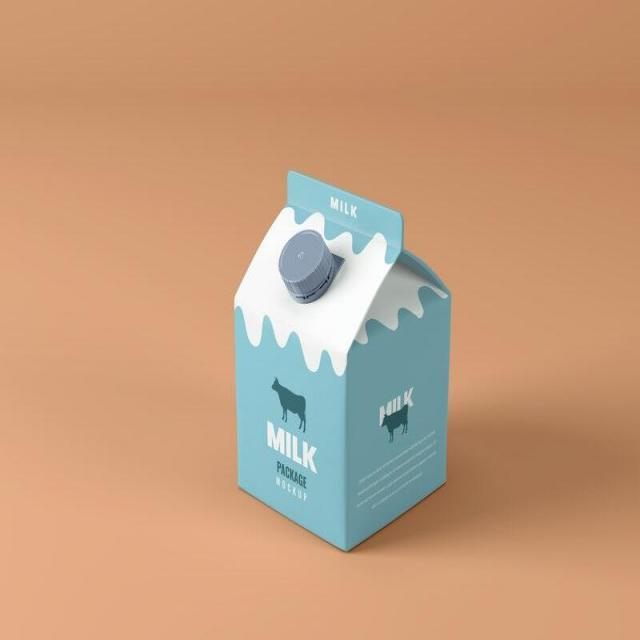non_white_jug: (223, 161, 466, 545)
